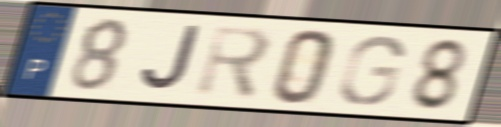0: (269, 27, 337, 107)
8: (67, 16, 133, 92), (409, 36, 472, 113)
G: (336, 34, 408, 108)
J: (138, 23, 203, 95)
R: (192, 22, 275, 103)
